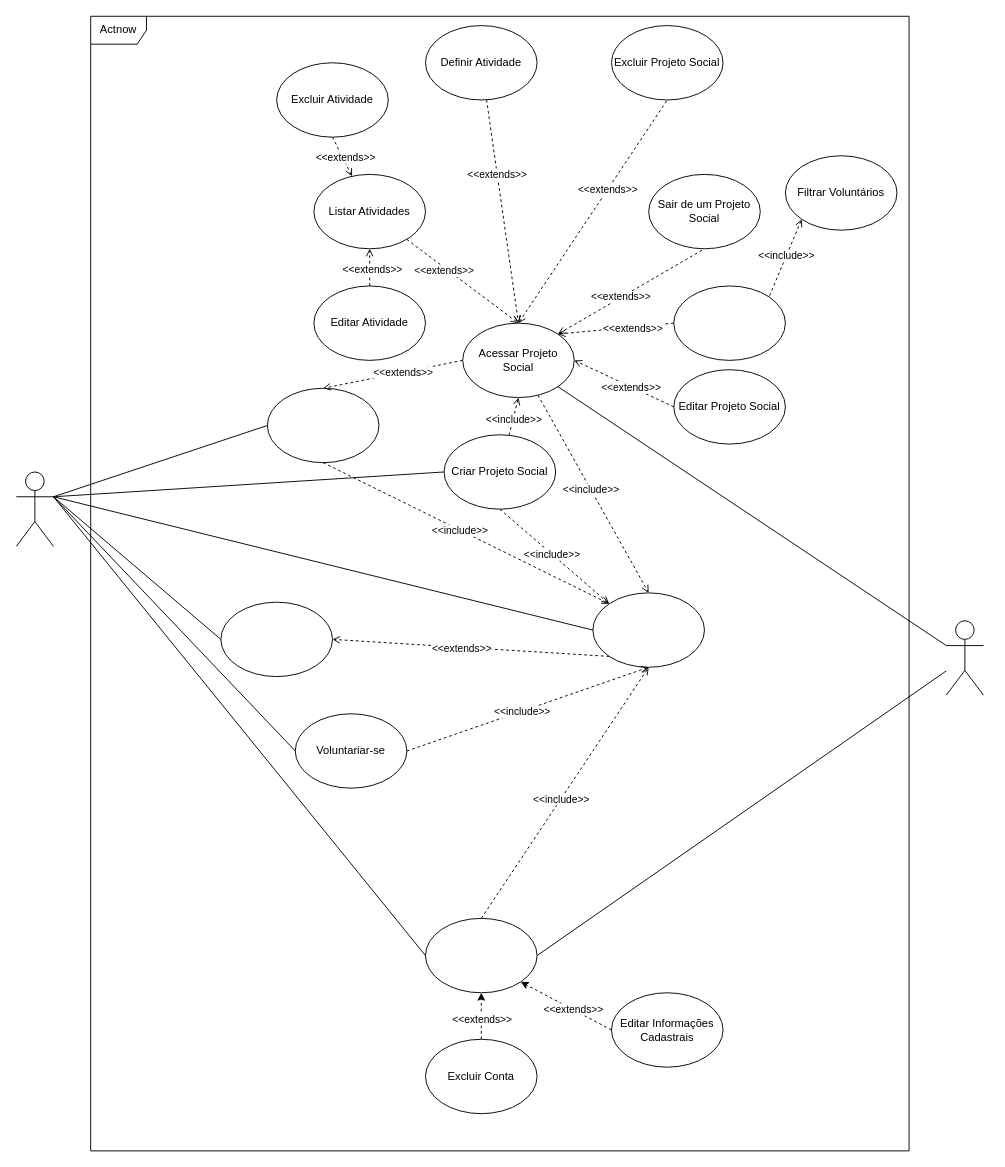
Image size: 1005x1167. Some labels were removed from this diagram. Here are the shapes that lost their labels. From the top down, the centre of each, then its label:
(729,322): Recrutar Voluntários
(322,425): Listar Projetos Sociais
(34,508): Usuário
(276,639): Criar Conta
(648,629): Fazer Login
(964,657): Voluntário
(481,955): Acessar Perfil
